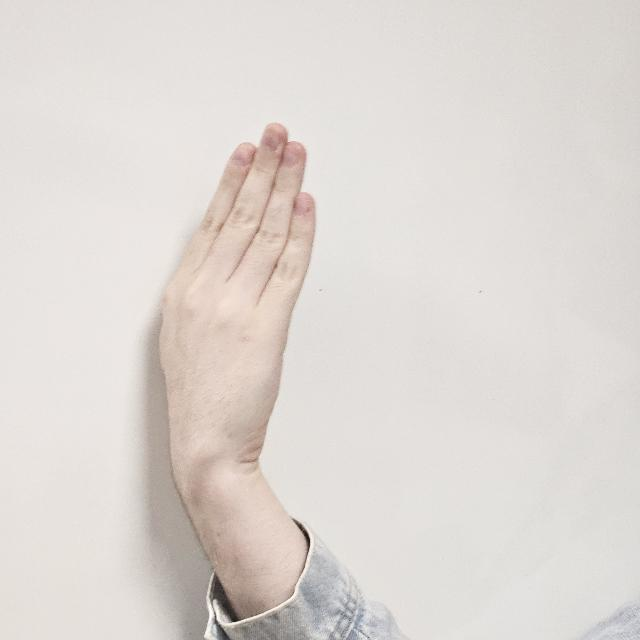Baixo: (168, 105, 342, 433)
